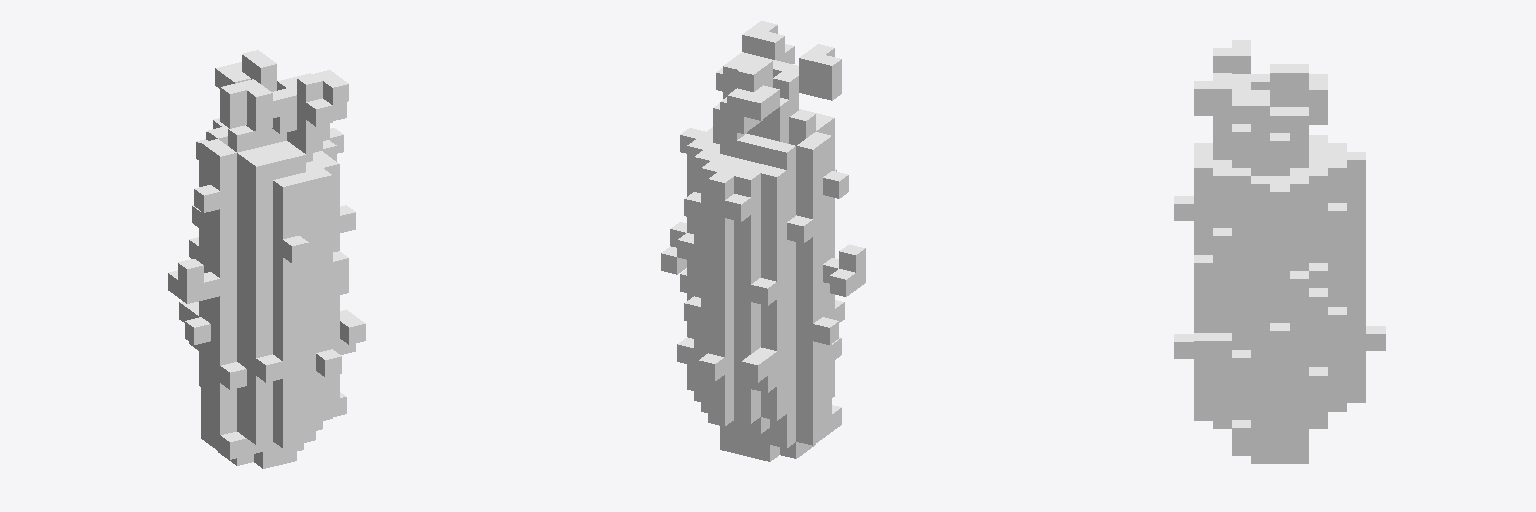
File: cactus_ogur.obj
3 renders of one model, left to right at view 1: azimuth 30°, elevation 25°; view 2: azimuth 150°, elevation 25°; view 3: azimuth 270°, elevation 25°, orthographic.
Parts seen in each view (by area): view 1: object 1; view 2: object 1; view 3: object 1.
Boxes of the visible parts, x1=… form: object 1: x1=168, y1=50, x2=365, y2=468; object 1: x1=661, y1=21, x2=865, y2=461; object 1: x1=1174, y1=40, x2=1385, y2=463.
Bounding box in the file's own units: 1 × 2.2 × 1.1.